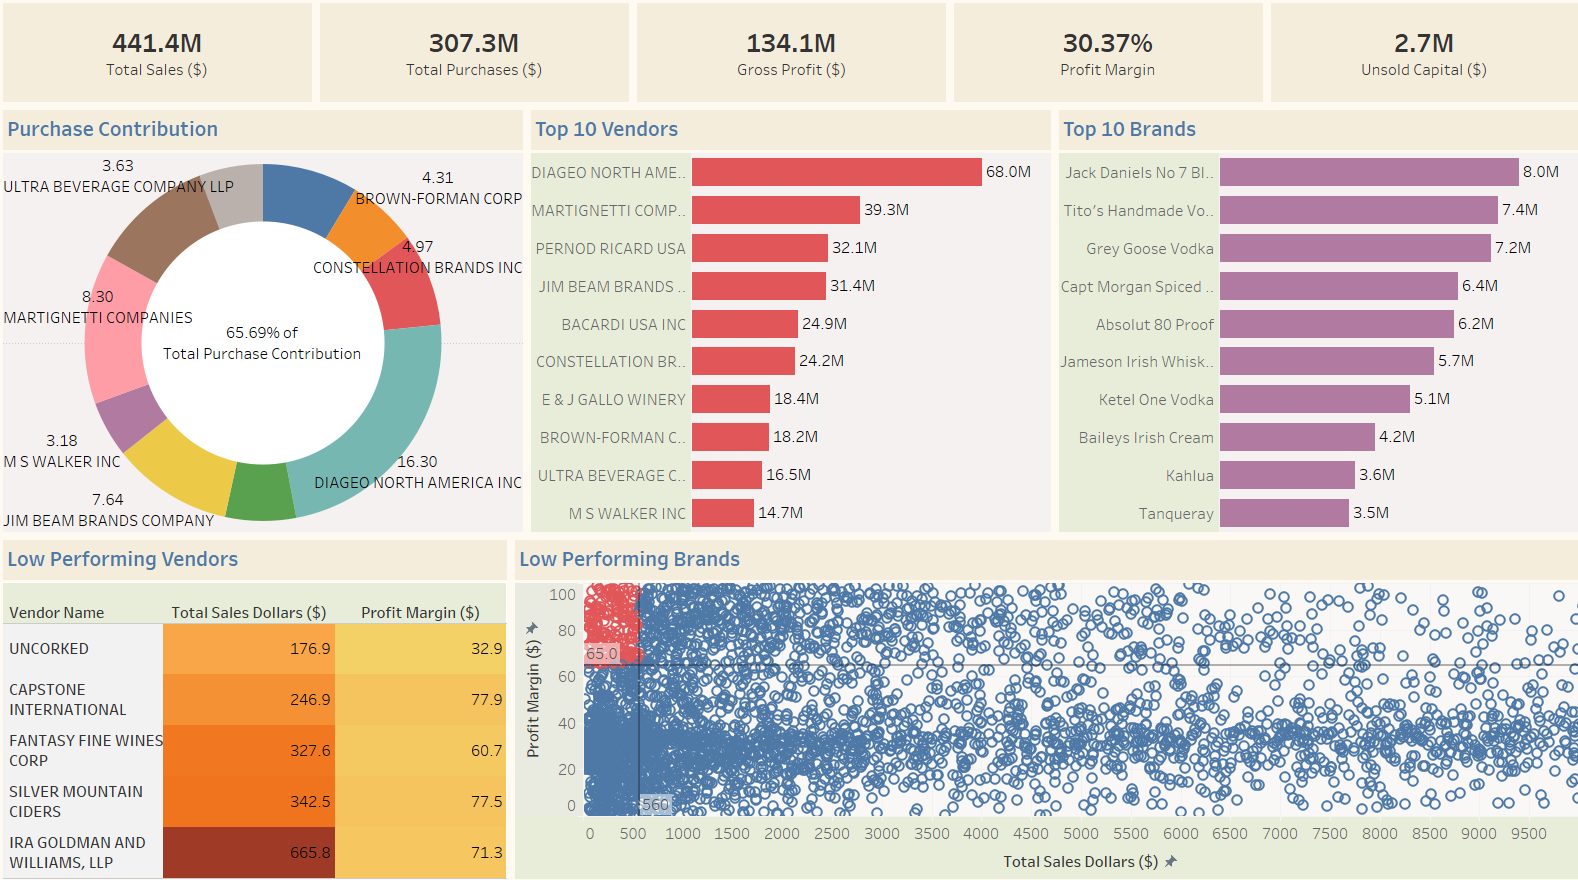

The page's visual inventory and layout, read from the dashboard file:
{"tool":"tableau","page":{"name":"Dashboard 1","canvas":[1600,900],"ordinal":0},"visuals":[{"type":"worksheet","title":"TotalSales","mark":"Automatic","box":[8,8,317,107]},{"type":"worksheet","title":"TotalPurchases","mark":"Automatic","box":[325,8,317,107]},{"type":"worksheet","title":"Gross Profit","mark":"Automatic","box":[642,8,317,107]},{"type":"worksheet","title":"ProfitMargin","mark":"Automatic","box":[959,8,317,107]},{"type":"worksheet","title":"UnsoldCapital","mark":"Automatic","box":[1276,8,316,107]},{"type":"worksheet","title":"Purchase Contribution","mark":"Pie","rows":["Calculation_875387209902010388","Calculation_875387209902010388"],"box":[8,115,528,430]},{"type":"worksheet","title":"TopV","mark":"Automatic","rows":["VendorName"],"cols":["TotalSalesDollars"],"box":[536,115,528,430]},{"type":"worksheet","title":"TopB","mark":"Automatic","rows":["Description"],"cols":["TotalSalesDollars"],"box":[1064,115,528,430]},{"type":"worksheet","title":"LowPerformingVendors","mark":"Square","rows":["VendorName"],"box":[8,545,512,347]},{"type":"worksheet","title":"BrandsBoost","mark":"Automatic","rows":["ProfitMargin"],"cols":["TotalSalesDollars"],"box":[520,545,1072,347]}]}

Visuals, with their boxes in screenshot pixels (x1, y1, x2, y2), scaled from the page's 1600x900 canvas onto the 1578x880 screenshot:
"TotalSales" worksheet: [8, 8, 321, 112]
"TotalPurchases" worksheet: [321, 8, 633, 112]
"Gross Profit" worksheet: [633, 8, 946, 112]
"ProfitMargin" worksheet: [946, 8, 1258, 112]
"UnsoldCapital" worksheet: [1258, 8, 1570, 112]
"Purchase Contribution" worksheet (Pie marks): [8, 112, 529, 533]
"TopV" worksheet: [529, 112, 1049, 533]
"TopB" worksheet: [1049, 112, 1570, 533]
"LowPerformingVendors" worksheet (Square marks): [8, 533, 513, 872]
"BrandsBoost" worksheet: [513, 533, 1570, 872]
